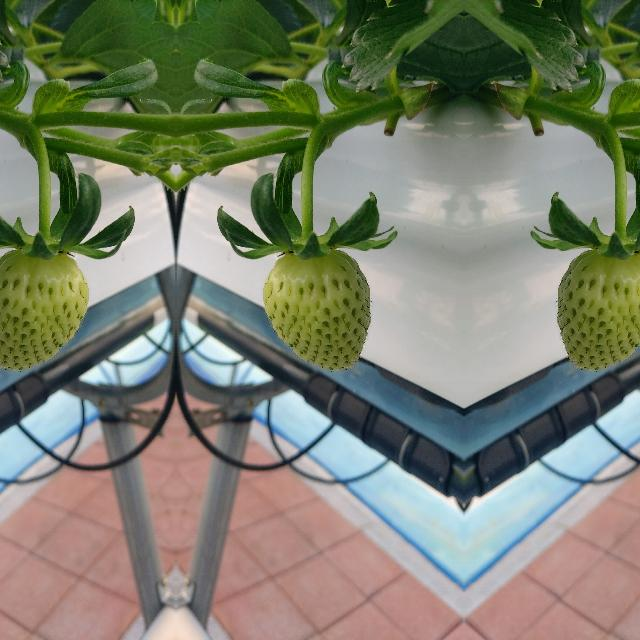Health_25: (261, 249, 371, 371), (0, 249, 89, 371), (555, 249, 640, 371)
